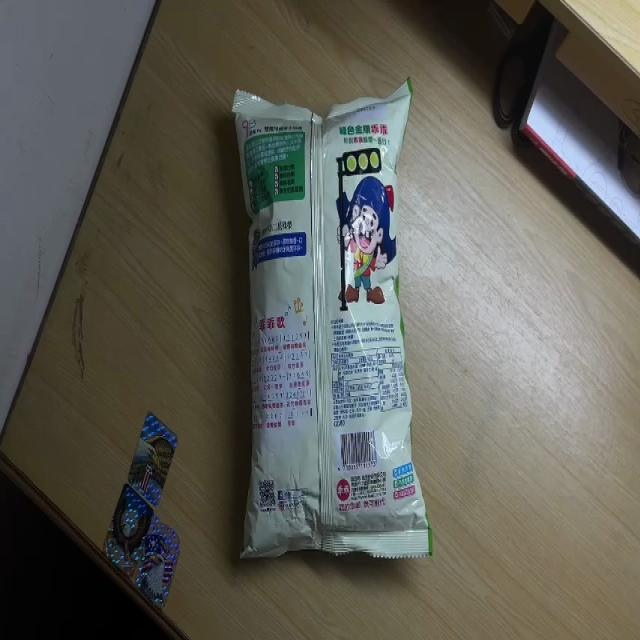Good-Luck: (230, 77, 433, 564)
